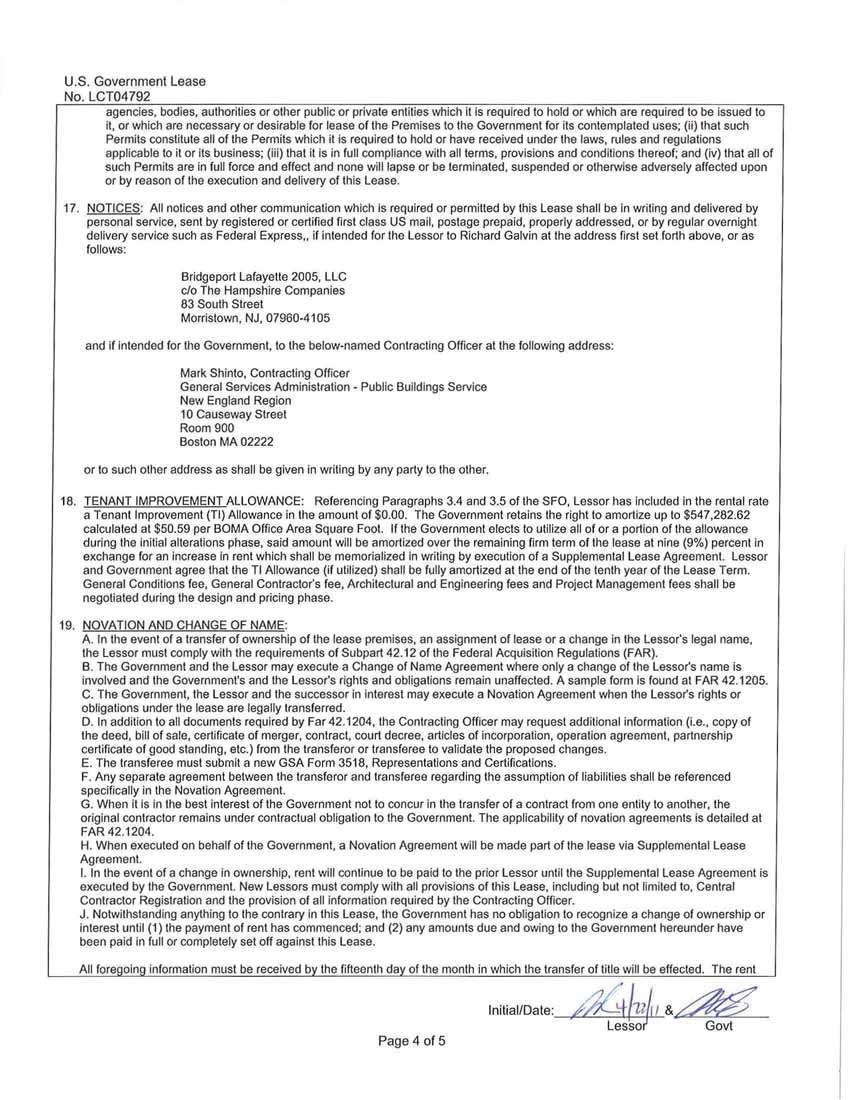handwritten: (565, 973, 769, 1024)
